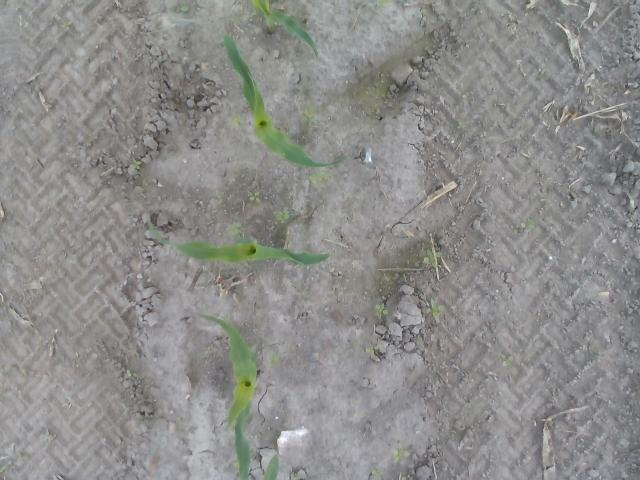Maize: (222, 33, 353, 167), (146, 213, 332, 268), (198, 313, 258, 478), (250, 1, 319, 60), (262, 453, 283, 480)
Weeds: (308, 168, 332, 191), (424, 298, 446, 320), (512, 218, 536, 237), (424, 249, 444, 271), (392, 444, 410, 466), (300, 104, 318, 124), (228, 115, 248, 130), (226, 222, 242, 238), (276, 208, 290, 224), (266, 354, 280, 368), (38, 432, 54, 444), (247, 190, 261, 203), (364, 346, 382, 356), (374, 302, 386, 316), (129, 158, 142, 170), (174, 4, 190, 13), (371, 468, 384, 478), (376, 0, 392, 8), (0, 463, 10, 475), (502, 356, 514, 366), (462, 92, 476, 100), (128, 349, 139, 359), (125, 368, 134, 380), (457, 122, 468, 130)
